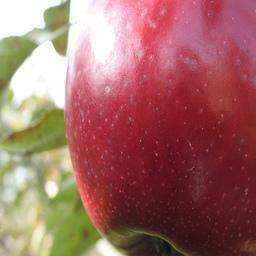apple: (65, 1, 255, 254)
